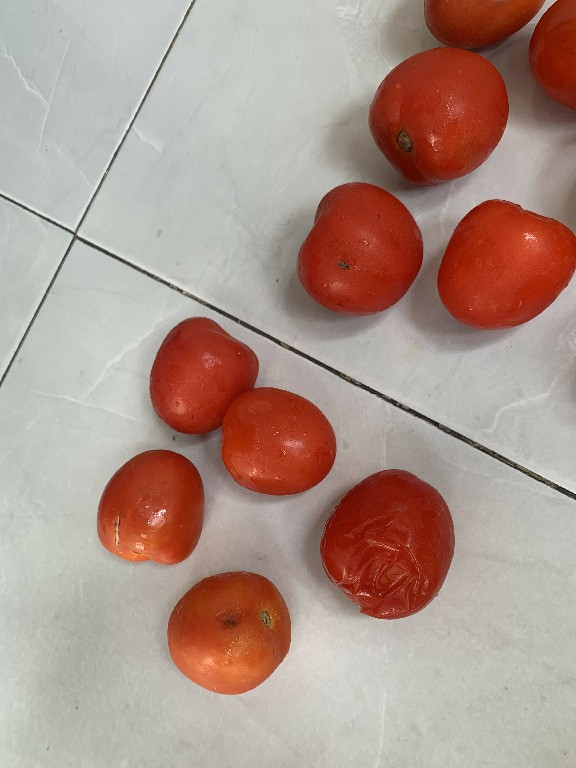NG: (318, 461, 455, 616), (166, 562, 290, 695), (92, 442, 211, 566)
OK: (363, 37, 508, 188), (431, 197, 575, 338), (299, 172, 423, 320), (218, 382, 346, 504), (148, 311, 260, 438)
